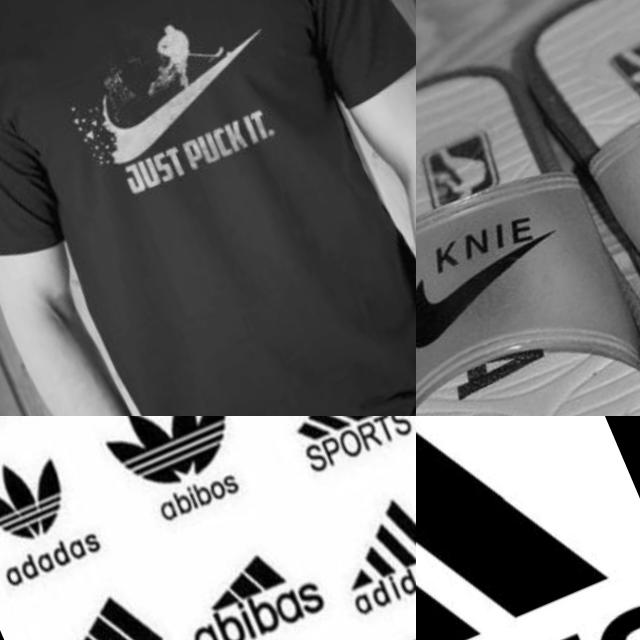ADIDAS_fake: (416, 416, 640, 640), (160, 508, 350, 640), (86, 416, 261, 542), (416, 552, 640, 640), (0, 436, 115, 600), (11, 555, 210, 640), (313, 472, 416, 628), (259, 416, 416, 491)
NIKE_fake: (55, 0, 324, 218), (416, 176, 591, 377)
